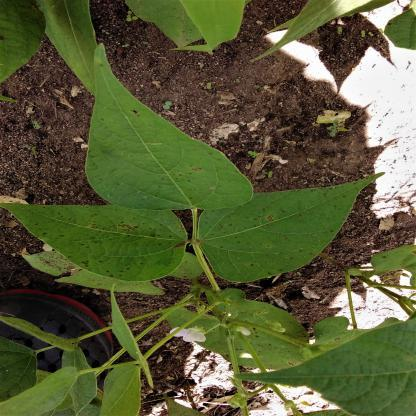Beans_Angular_LeafSpot: (82, 57, 237, 206), (198, 174, 382, 282), (13, 200, 190, 280)
